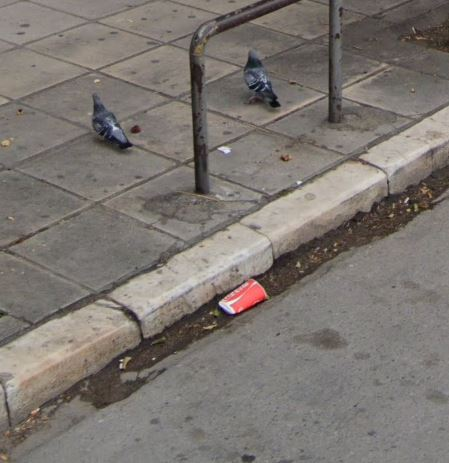trash: (209, 268, 276, 325)
